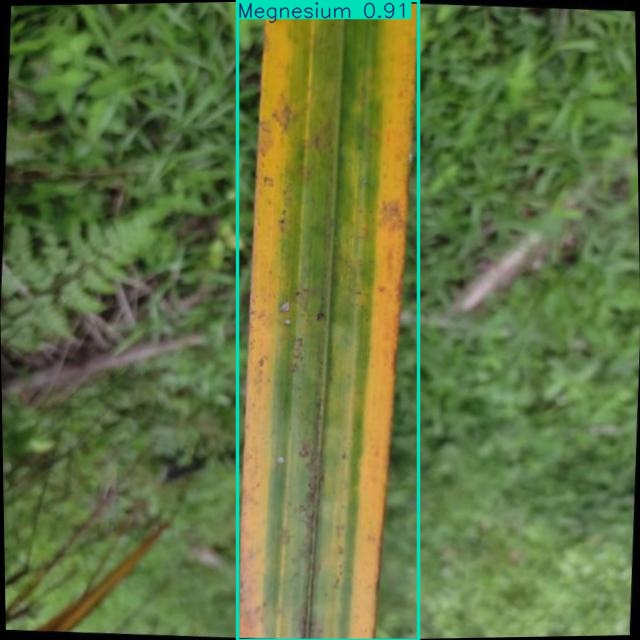Megnesium: (238, 0, 418, 640)
